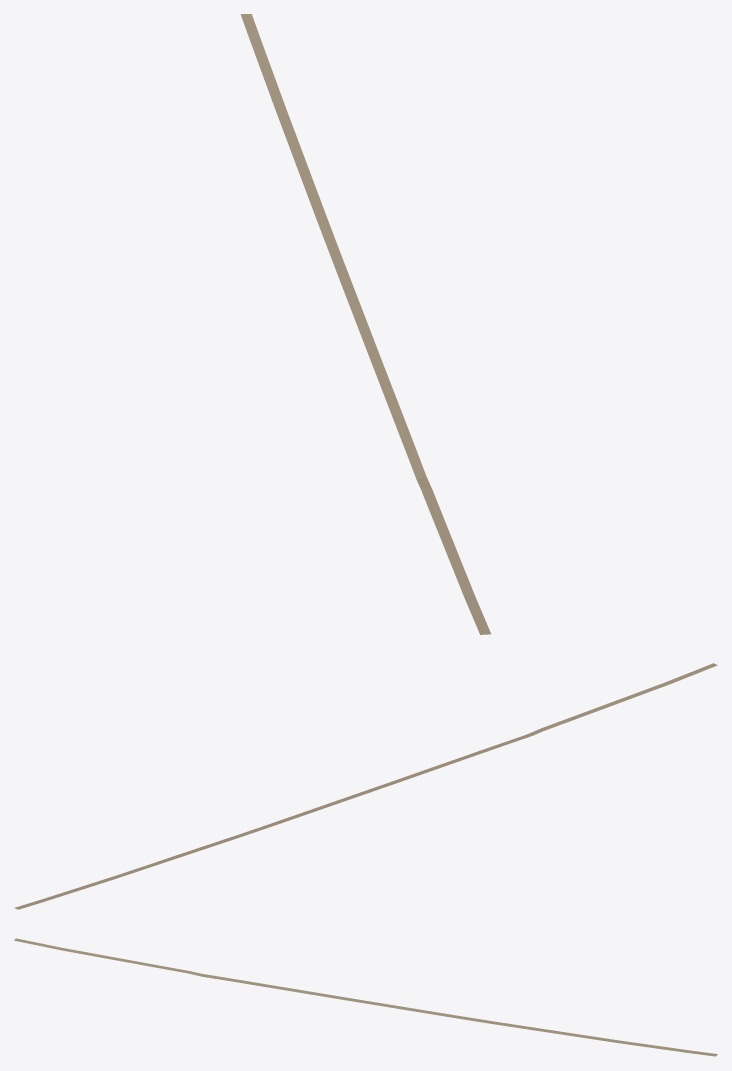
The model's file is farm_-24_-31_track.glb.
The picture shows the model from 3 angles, top to bottom: view 1: azimuth 30°, elevation 25°; view 2: azimuth 150°, elevation 25°; view 3: azimuth 270°, elevation 25°; orthographic projection. The views are drawn at different scales.
Visible parts, largest first — view 1: geometry_0; view 2: geometry_0; view 3: geometry_0.
Part boxes in pixels (x1,y1,x2,y2): geometry_0: [240, 14, 490, 634]; geometry_0: [14, 663, 717, 909]; geometry_0: [14, 938, 717, 1056].
Size of the model in its own units: 157 by 4.25 by 406.
